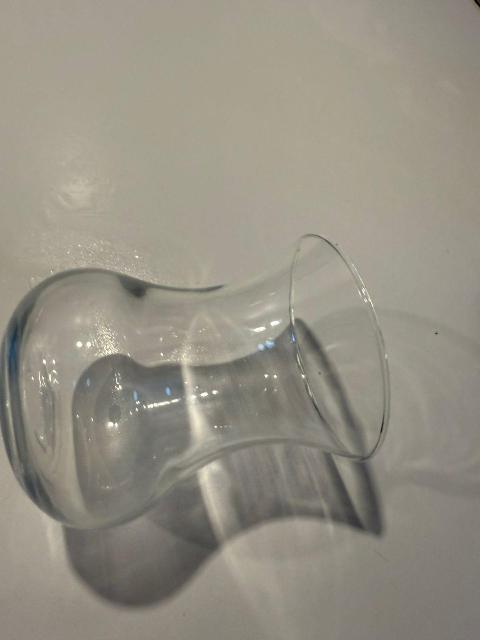Cam: (0, 232, 393, 528)
